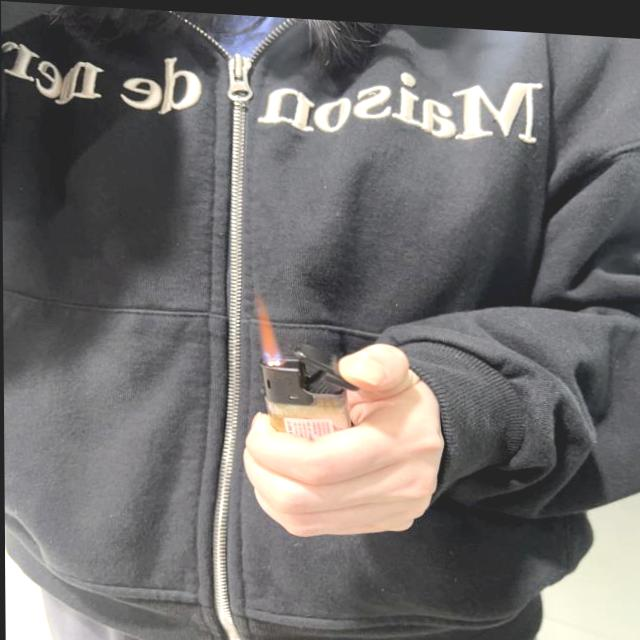Fire: (250, 287, 278, 354)
